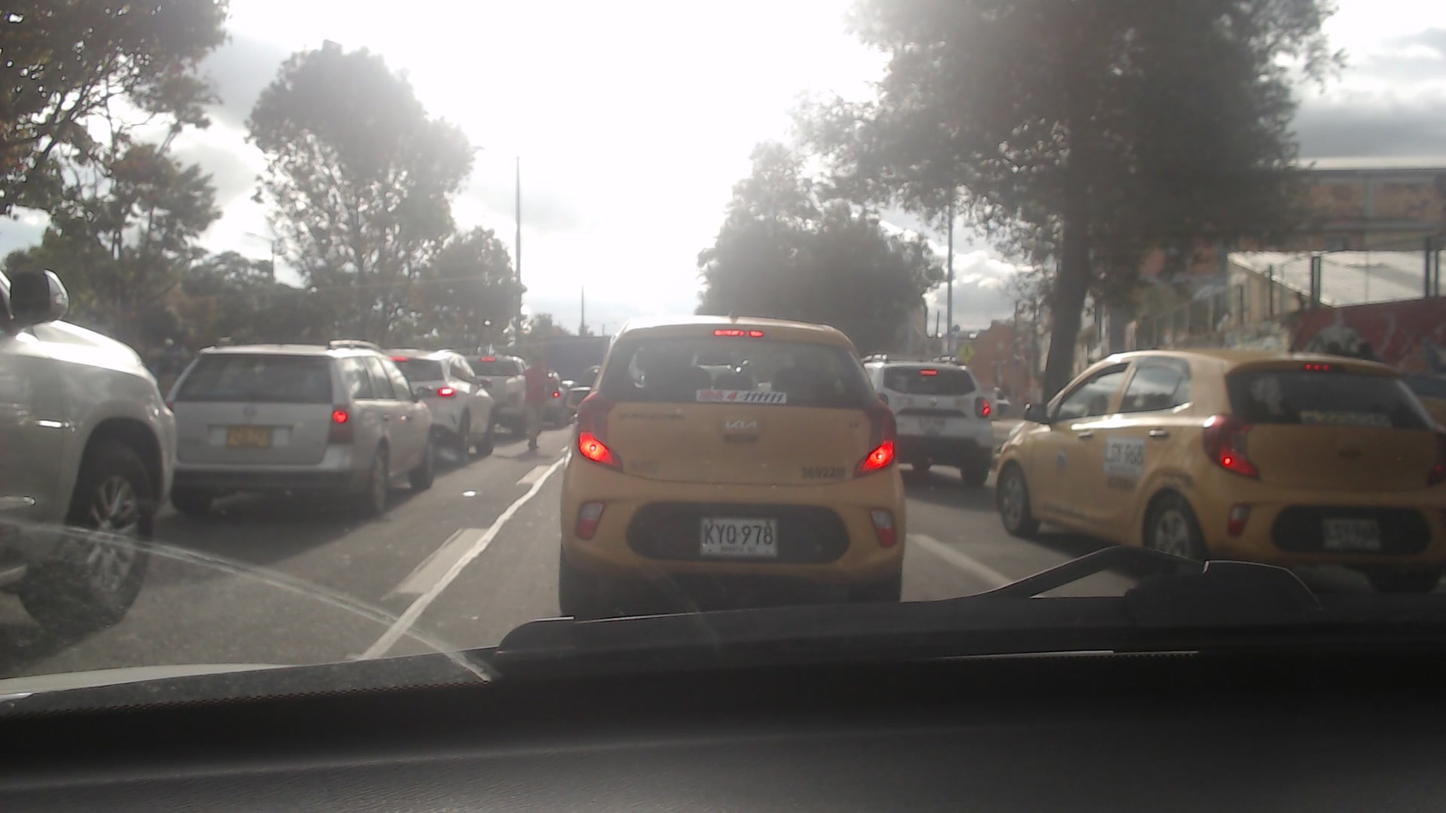car: (994, 351, 1446, 592), (565, 319, 909, 618), (167, 329, 436, 512), (859, 352, 997, 485), (383, 343, 497, 453), (518, 357, 554, 452)
